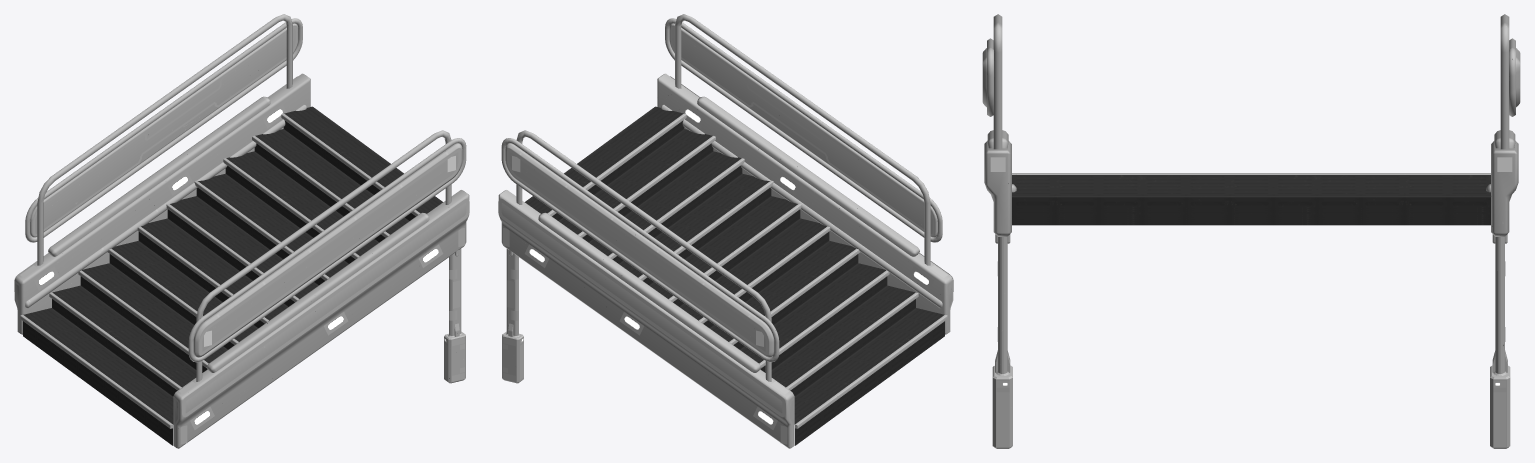
File: SM_Stairs_1_Merged.fbx
3 views of the same model, side by side, from view 1: azimuth 30°, elevation 25°; view 2: azimuth 150°, elevation 25°; view 3: azimuth 270°, elevation 25° (orthographic). The views are drawn at different scales.
Parts seen in each view (by area): view 1: SM_Stairs_1_Merged_LOD0; view 2: SM_Stairs_1_Merged_LOD0; view 3: SM_Stairs_1_Merged_LOD0.
Boxes of the visible parts, <box> form: SM_Stairs_1_Merged_LOD0: <box>14,14,469,448</box>; SM_Stairs_1_Merged_LOD0: <box>498,14,953,448</box>; SM_Stairs_1_Merged_LOD0: <box>982,14,1520,448</box>.
Bounding box in the file's own units: 400 × 400 × 332.
